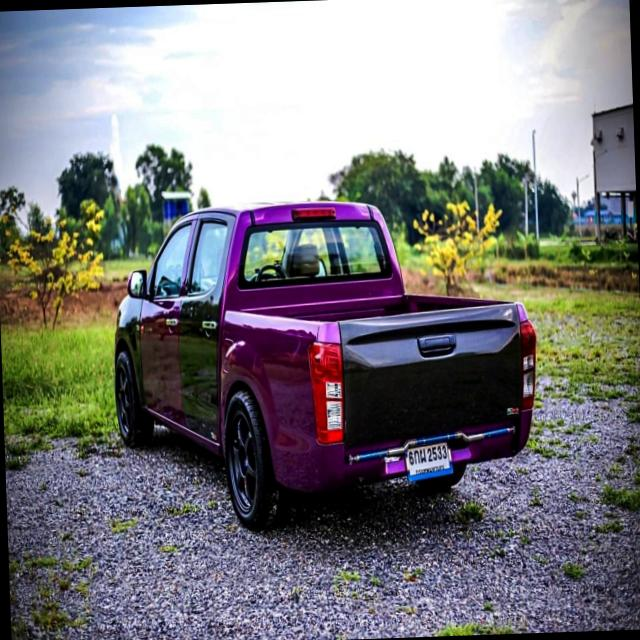license_plate: (398, 437, 459, 490)
